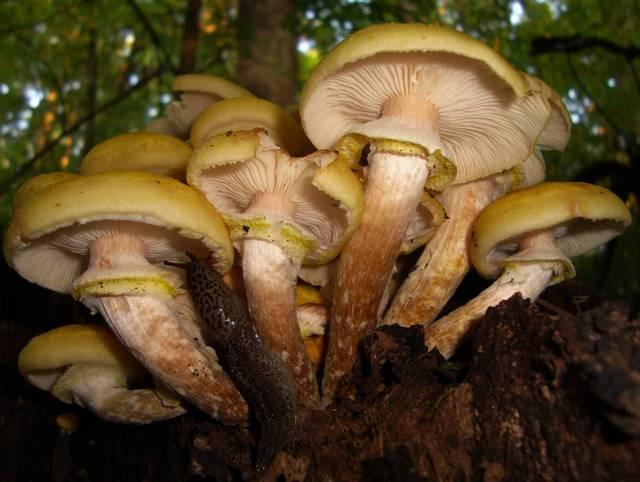edible_mushroom: (2, 20, 630, 438), (296, 21, 567, 405), (3, 168, 249, 427), (185, 126, 363, 406)
